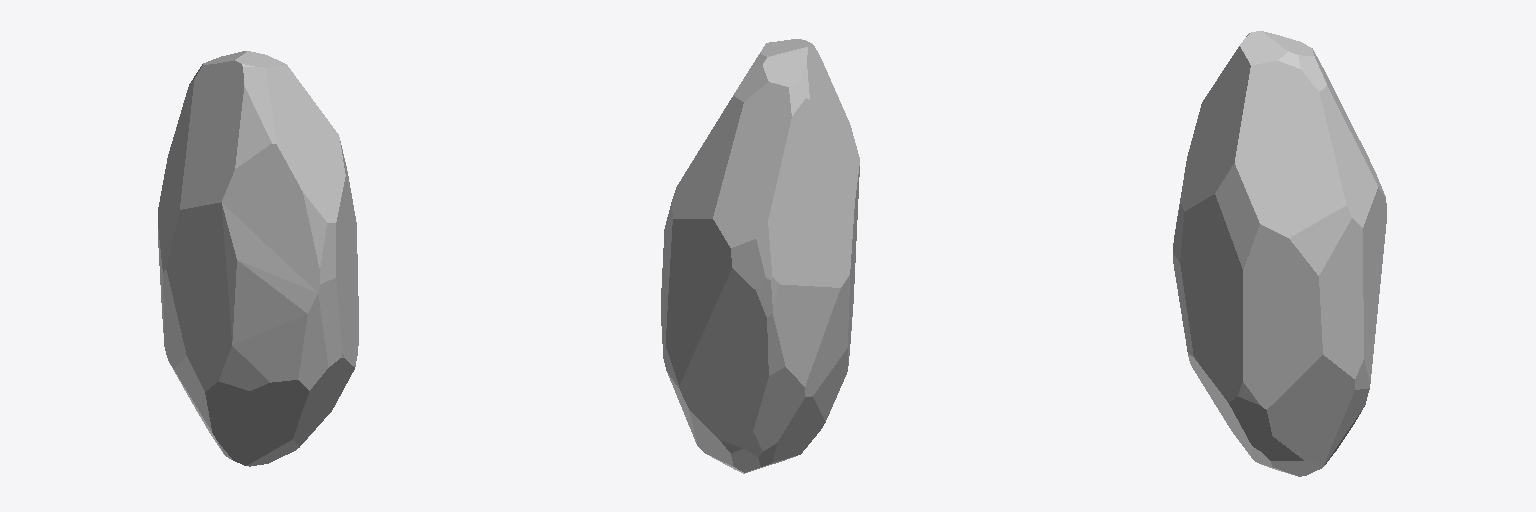
Rendered from heiRock5.obj.
3 renders of one model, left to right at view 1: azimuth 30°, elevation 25°; view 2: azimuth 150°, elevation 25°; view 3: azimuth 270°, elevation 25°, orthographic.
Visible parts, largest first — view 1: Icosphere; view 2: Icosphere; view 3: Icosphere.
Boxes of the visible parts, <box> form: Icosphere: <box>158,51,358,466</box>; Icosphere: <box>661,39,859,473</box>; Icosphere: <box>1173,31,1386,476</box>.
Bounding box in the file's own units: 68.68 × 160 × 74.28.